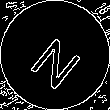N_NE: (24, 22, 86, 88)
